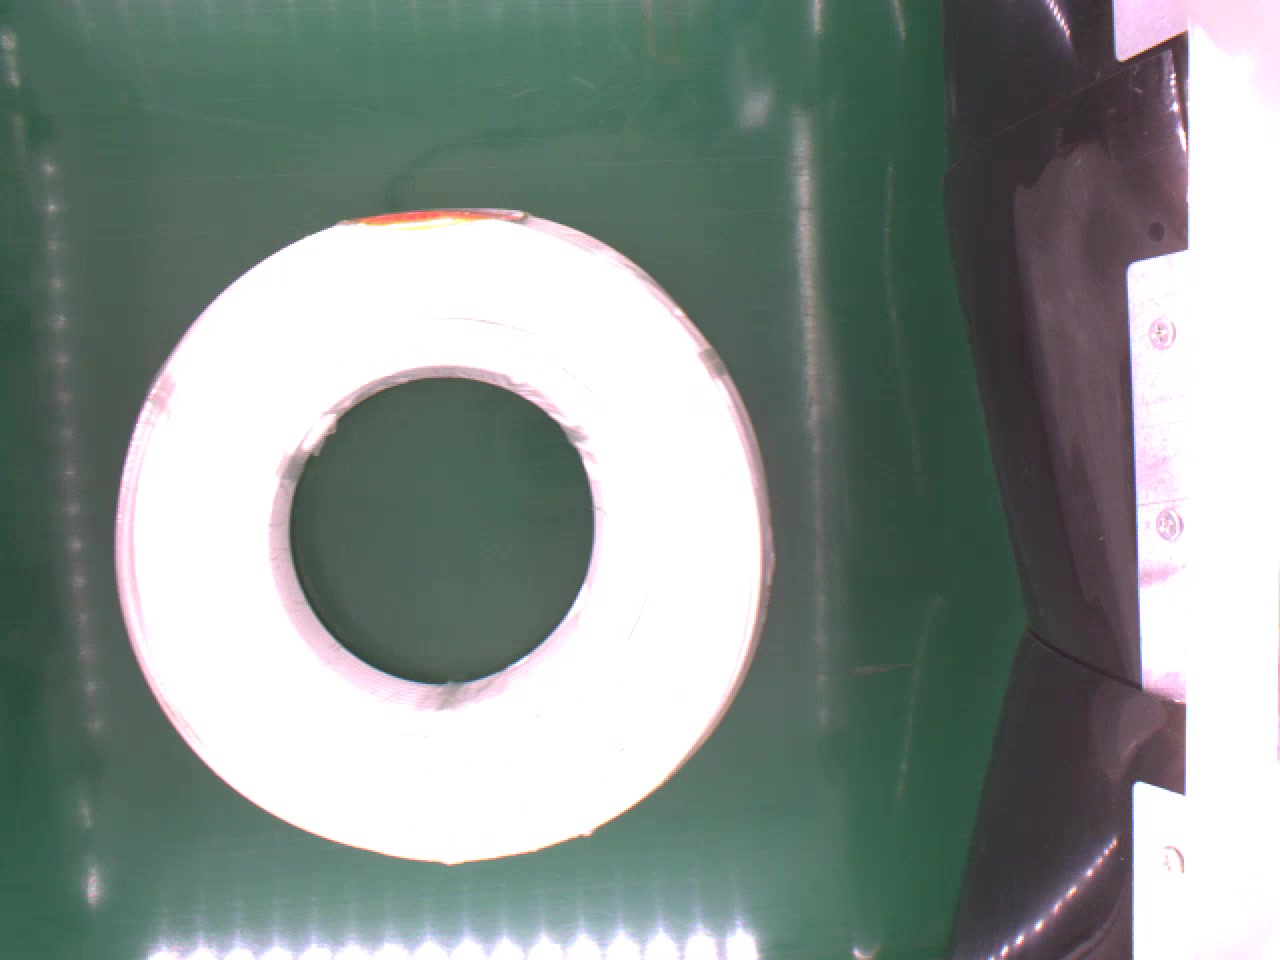white: (106, 200, 775, 871)
